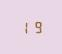nine: (31, 19, 42, 33)
one: (19, 20, 30, 34)
